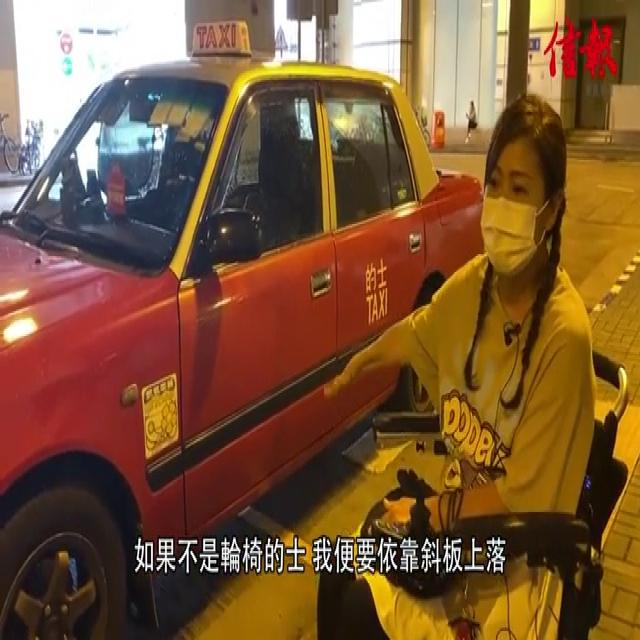wheelchairs: (365, 340, 632, 640)
